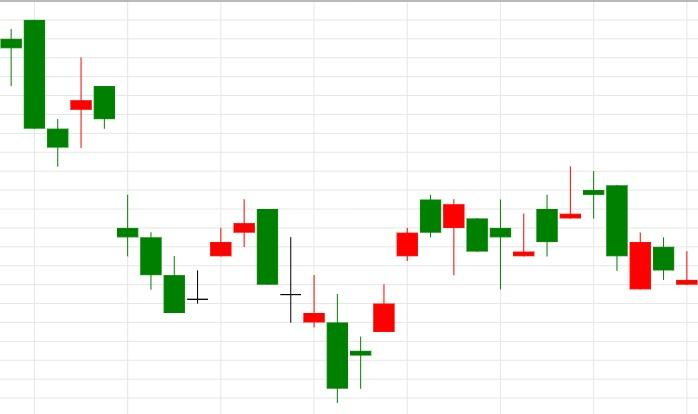hanging_man_fall: (326, 195, 465, 403)
